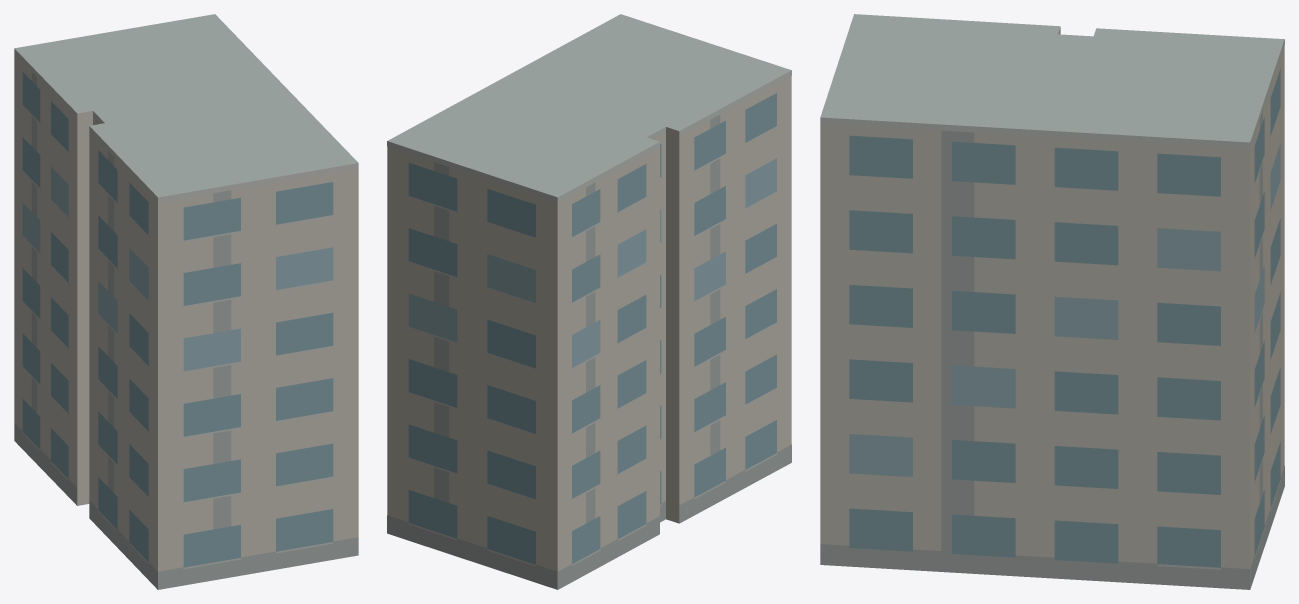
File: survey-upis-32514808.glb
3 views of the same model, side by side, from view 1: azimuth 30°, elevation 25°; view 2: azimuth 150°, elevation 25°; view 3: azimuth 270°, elevation 25° (orthographic). The views are drawn at different scales.
Visible parts, largest first — view 1: survey-upis-32514808.tmp; view 2: survey-upis-32514808.tmp; view 3: survey-upis-32514808.tmp.
Part boxes in pixels (x1,y1,x2,y2): survey-upis-32514808.tmp: [14, 14, 358, 589]; survey-upis-32514808.tmp: [387, 14, 791, 589]; survey-upis-32514808.tmp: [820, 14, 1284, 589].
Size of the model in its own units: 11.03 by 17.9 by 16.85.
